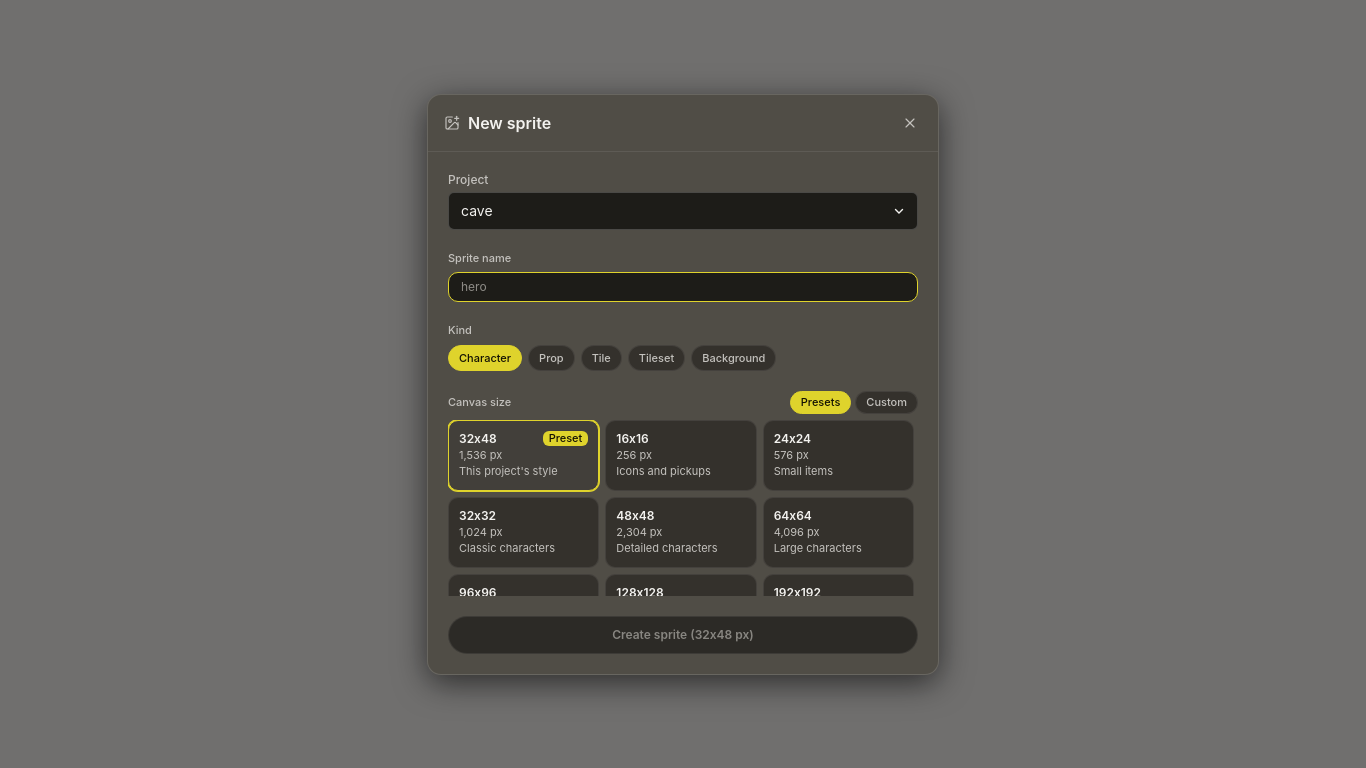
Test case: NewSpriteDialog › refuses a custom side outside 16 to 512
The image size is (1366, 768).
Type "slime" into the field labelled "Sprite name" at coordinates (683, 287), box top-left (448, 272), bottom-right (918, 302)
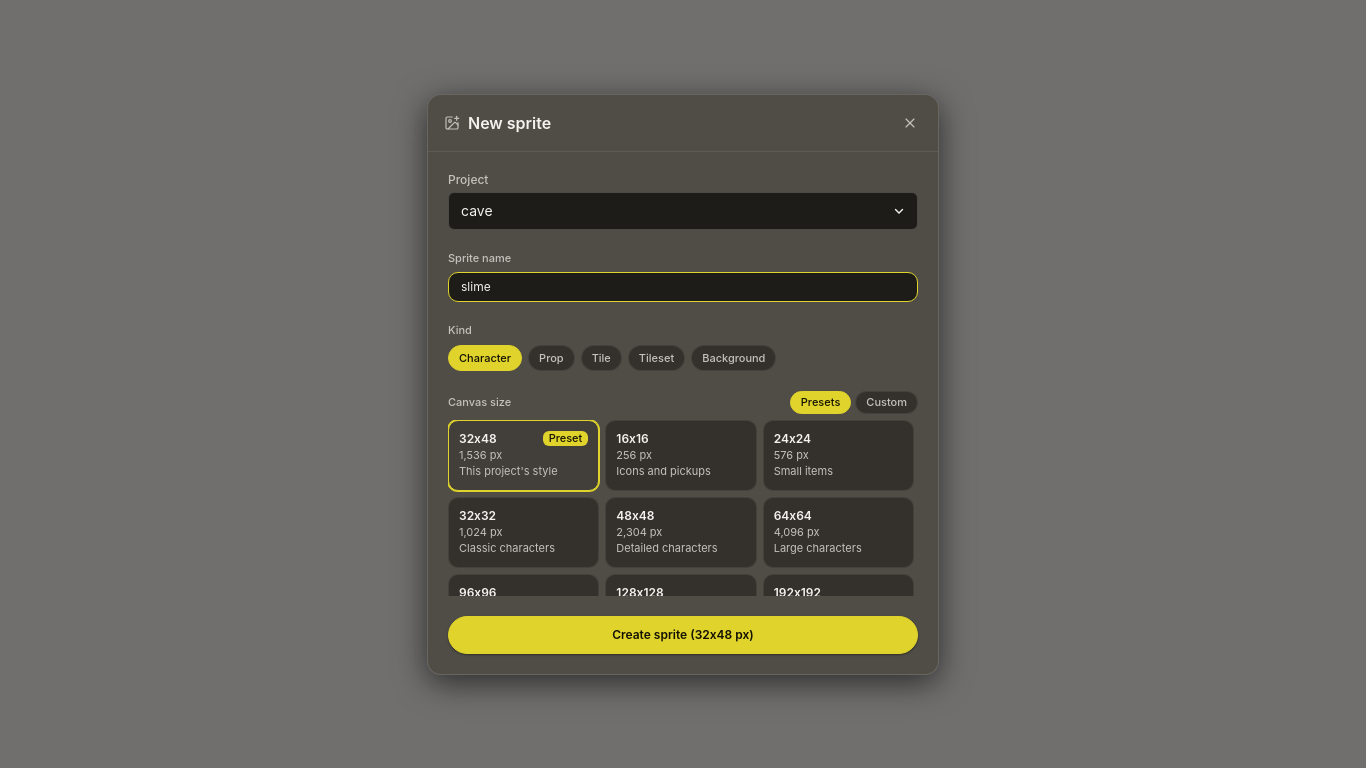
Click the button "Custom" at coordinates (887, 402), box top-left (855, 391), bottom-right (918, 414)
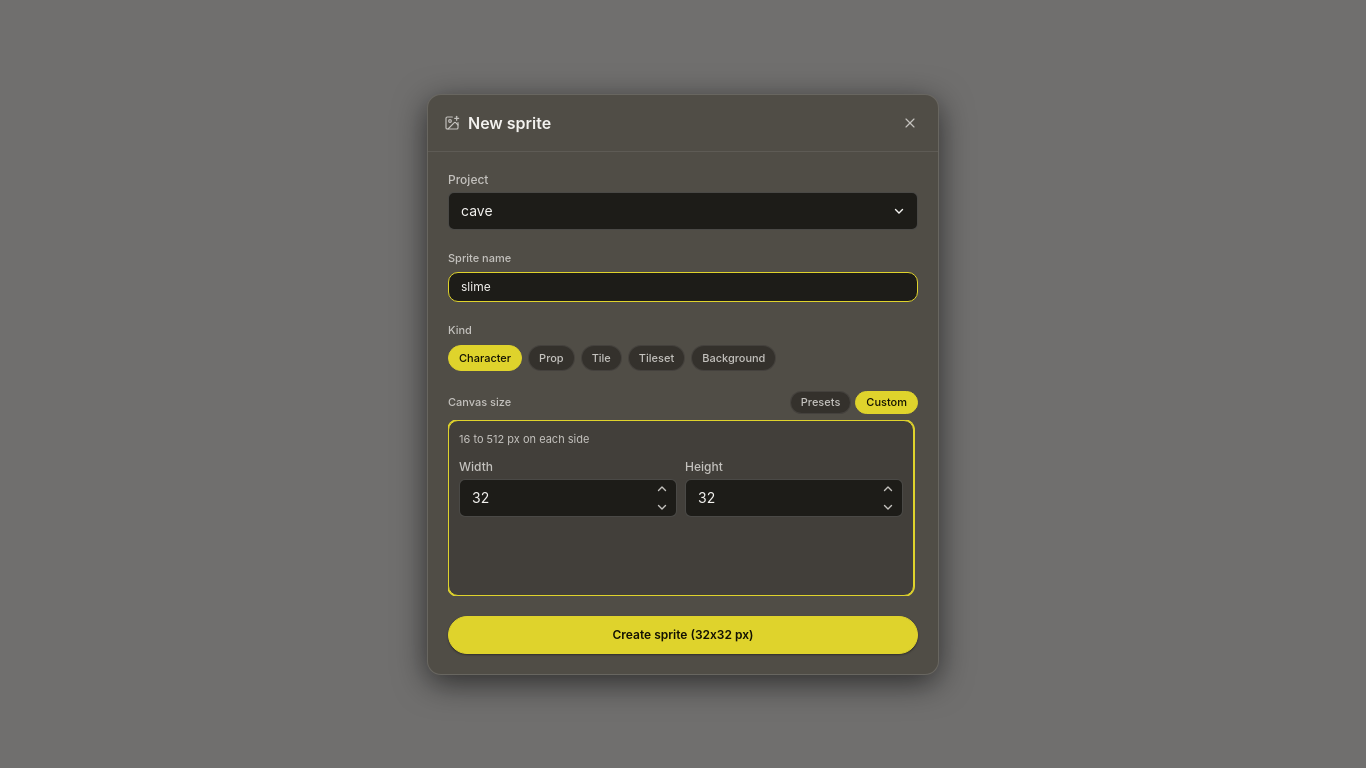
Replace the text in the number field labelled "Width" with "600" at coordinates (568, 498), box top-left (459, 479), bottom-right (677, 517)
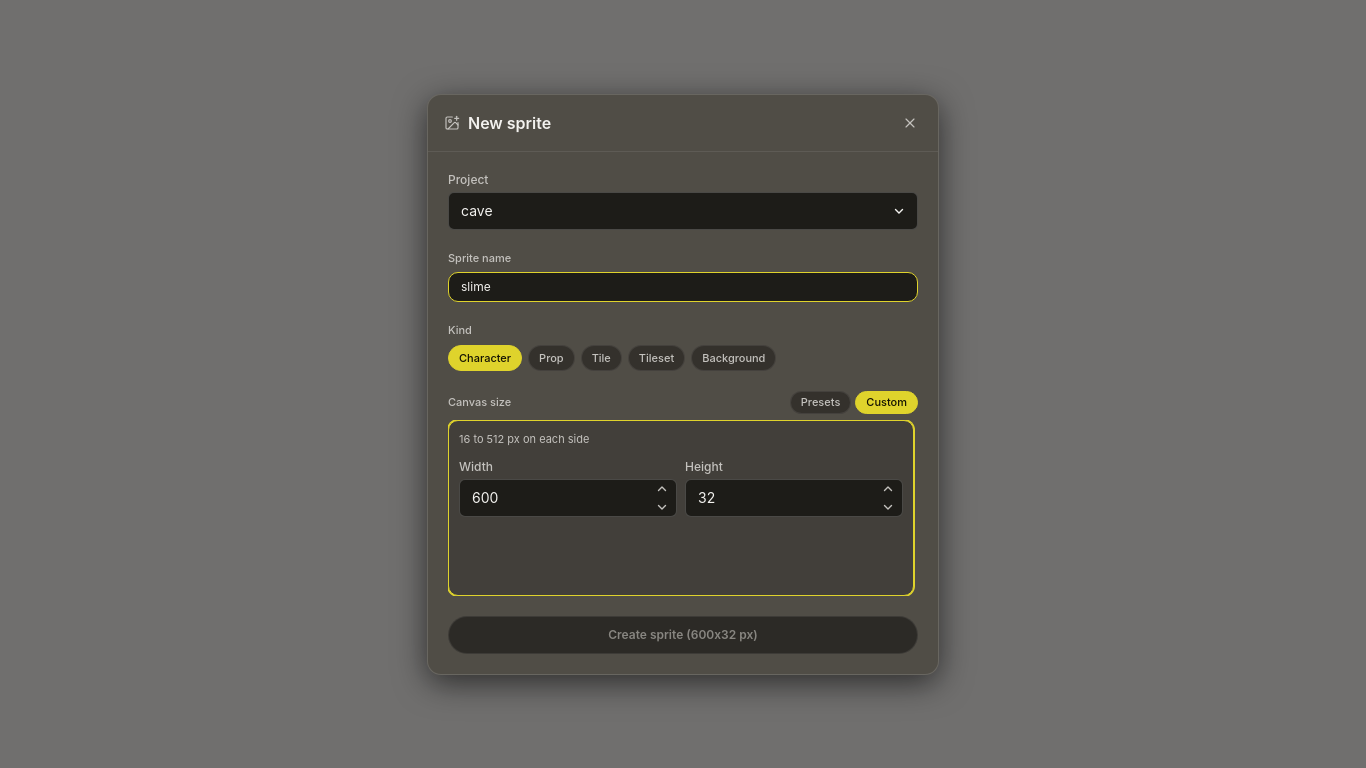
Now the button "Create sprite (600x32 px)" is disabled, box top-left (448, 616), bottom-right (918, 654)
Replace the text in the number field labelled "Width" with "8" at coordinates (568, 498), box top-left (459, 479), bottom-right (677, 517)
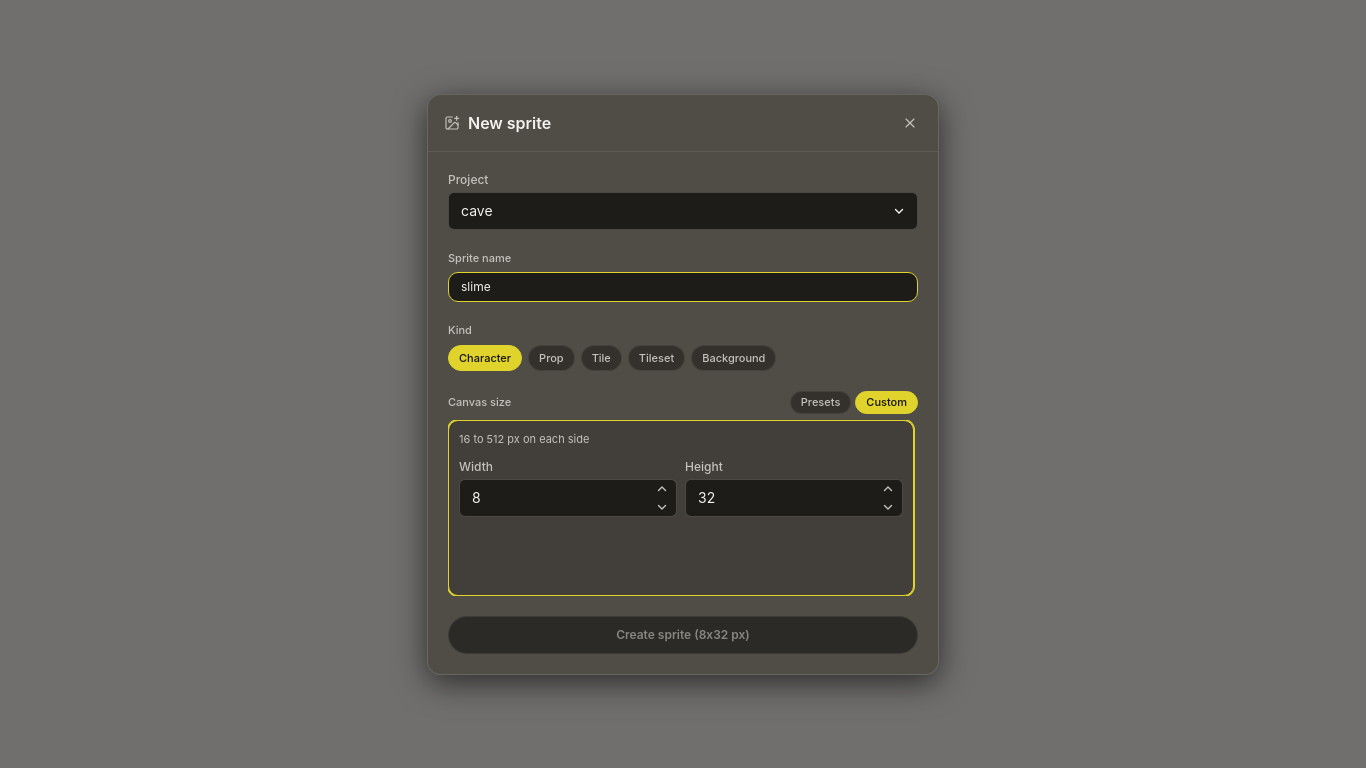
Now the button "Create sprite (8x32 px)" is disabled, box top-left (448, 616), bottom-right (918, 654)
Replace the text in the number field labelled "Width" with "100" at coordinates (568, 498), box top-left (459, 479), bottom-right (677, 517)
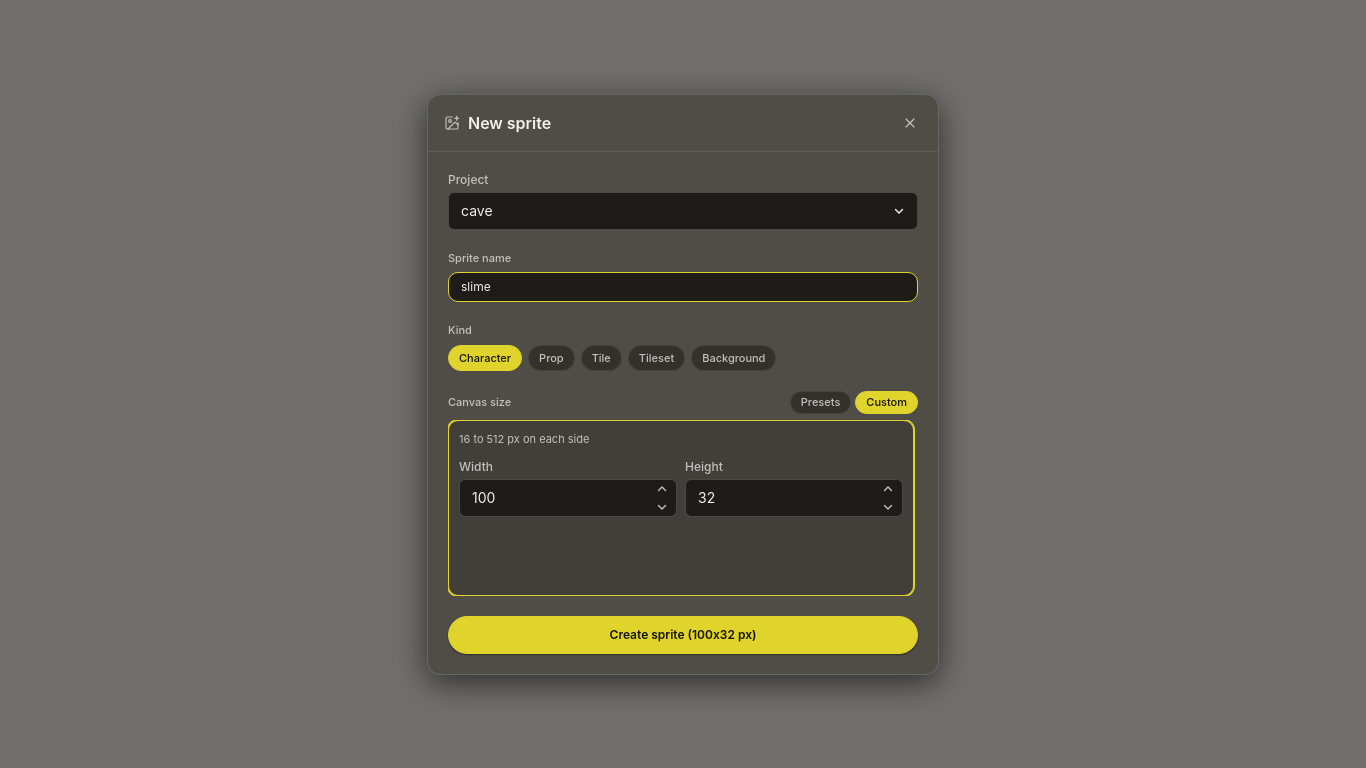
Replace the text in the number field labelled "Height" with "40" at coordinates (794, 498), box top-left (685, 479), bottom-right (903, 517)
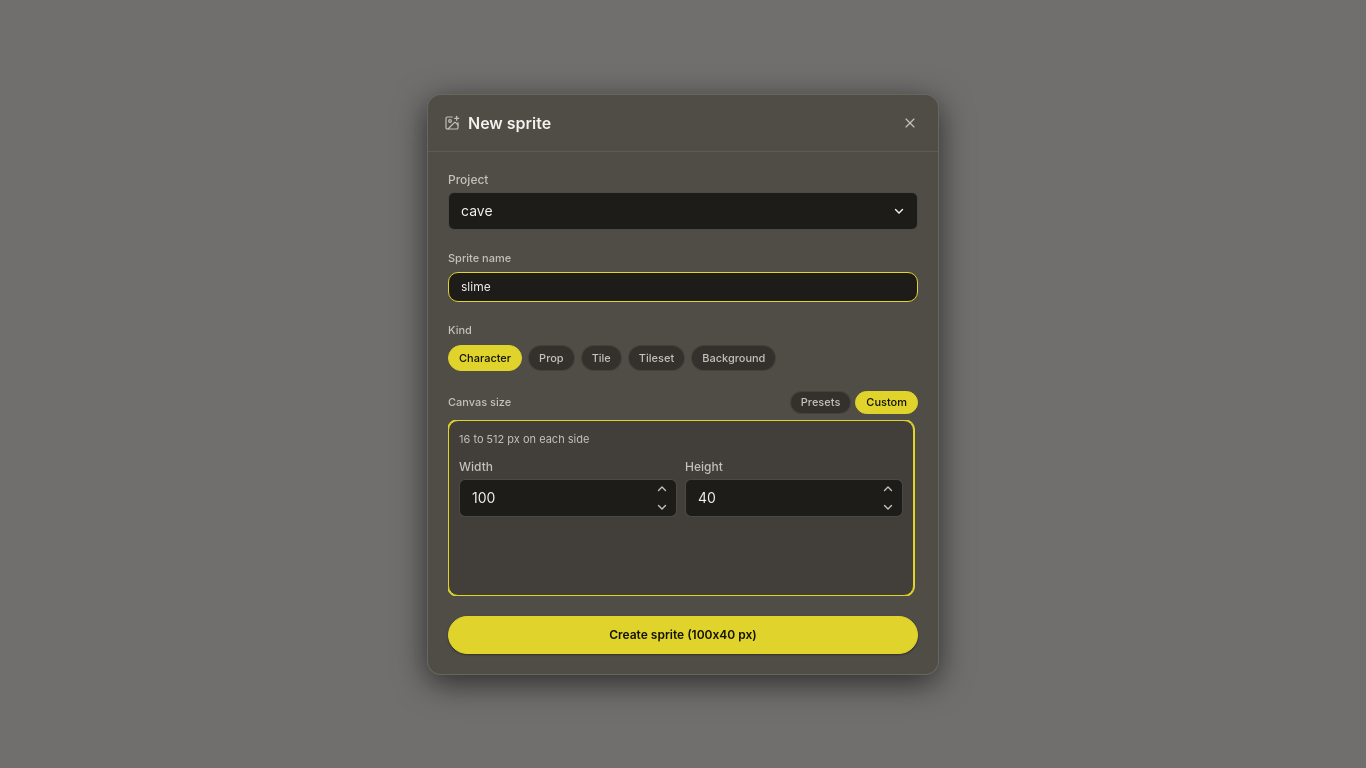
Now the button "Create sprite (100x40 px)" is enabled, box top-left (448, 616), bottom-right (918, 654)
Now the button "Create sprite (100x40 px)" is shown, box top-left (448, 616), bottom-right (918, 654)
